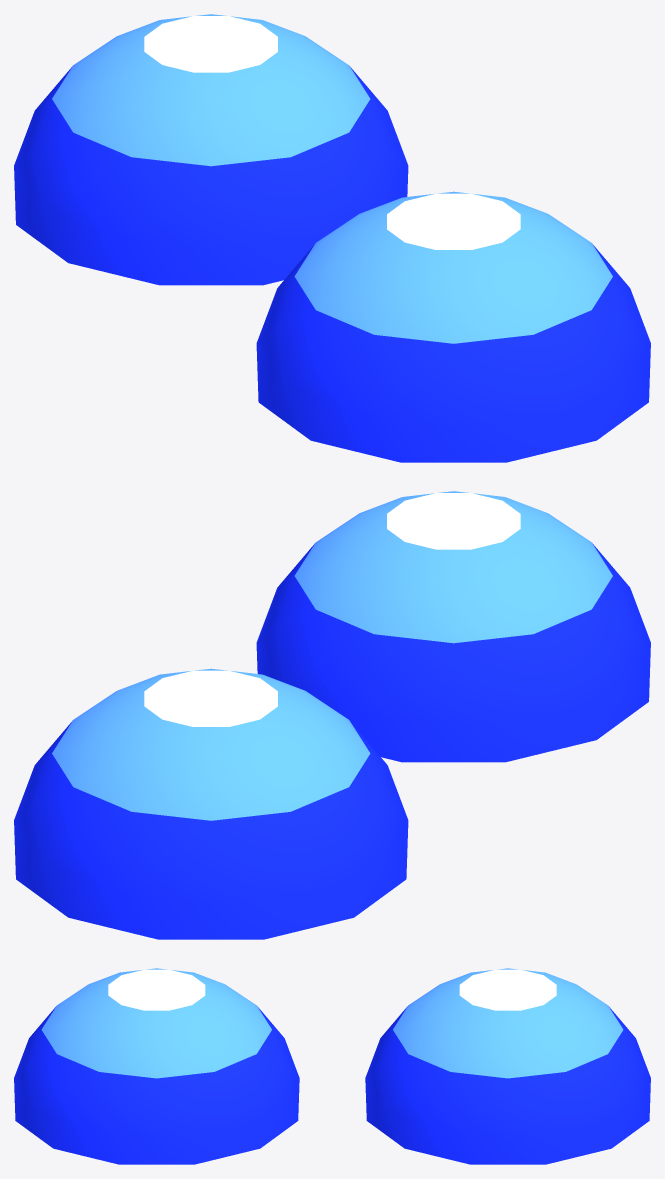
Rendered from shot_protron_2.glb.
3 views of the same model, one above another, from view 1: azimuth 30°, elevation 25°; view 2: azimuth 150°, elevation 25°; view 3: azimuth 270°, elevation 25° (orthographic). The views are drawn at different scales.
Visible parts, largest first — view 1: shot_protron_2_pearl1, shot_protron_2_pearl0; view 2: shot_protron_2_pearl0, shot_protron_2_pearl1; view 3: shot_protron_2_pearl0, shot_protron_2_pearl1.
Boxes of the visible parts, x1=… form: shot_protron_2_pearl1: x1=256, y1=191, x2=650, y2=462; shot_protron_2_pearl0: x1=14, y1=14, x2=408, y2=285; shot_protron_2_pearl0: x1=14, y1=668, x2=408, y2=939; shot_protron_2_pearl1: x1=256, y1=491, x2=650, y2=762; shot_protron_2_pearl0: x1=365, y1=968, x2=650, y2=1164; shot_protron_2_pearl1: x1=14, y1=968, x2=299, y2=1164.
Bounding box in the file's own units: 5.85 × 2.76 × 13.05.
